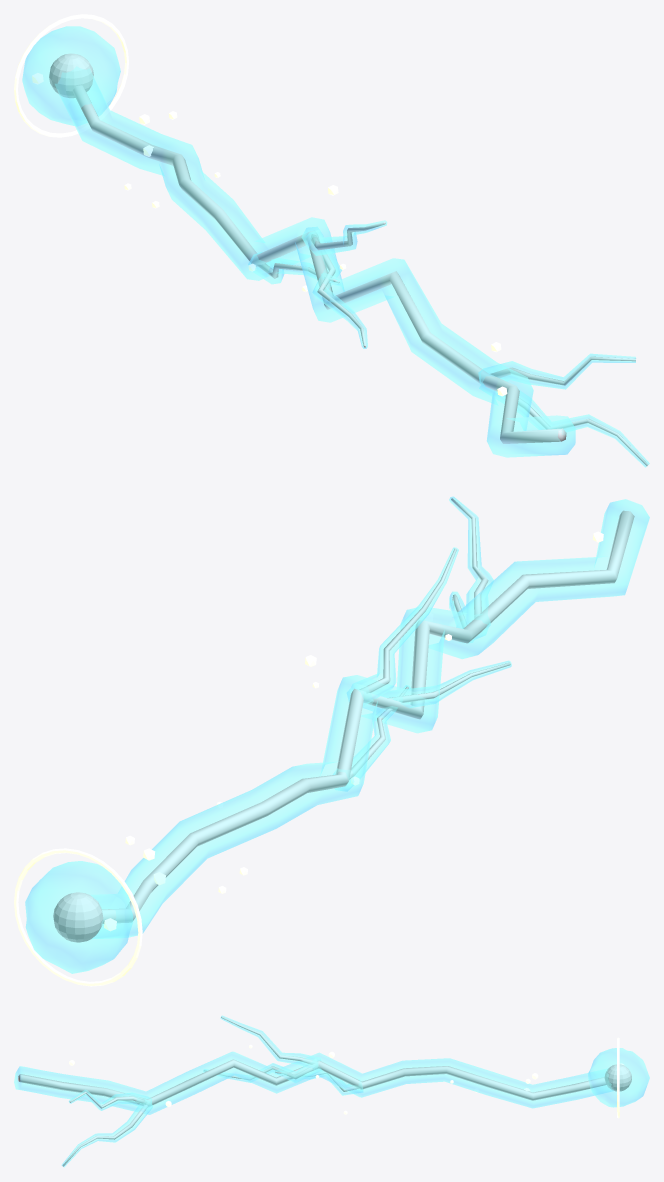
The model's file is STORMCREST_stormbolt_vfx.fbx.
3 views of the same model, one above another, from view 1: azimuth 30°, elevation 25°; view 2: azimuth 150°, elevation 25°; view 3: azimuth 270°, elevation 25° (orthographic). The views are drawn at different scales.
Parts seen in each view (by area): view 1: STORMCREST_stormbolt_vfx; view 2: STORMCREST_stormbolt_vfx; view 3: STORMCREST_stormbolt_vfx.
Part boxes in pixels (bbox=[...]): STORMCREST_stormbolt_vfx: bbox=[14, 14, 649, 467]; STORMCREST_stormbolt_vfx: bbox=[14, 496, 649, 986]; STORMCREST_stormbolt_vfx: bbox=[14, 1015, 649, 1167].
Bounding box in the file's own units: 0.5529 × 0.5375 × 2.76.
